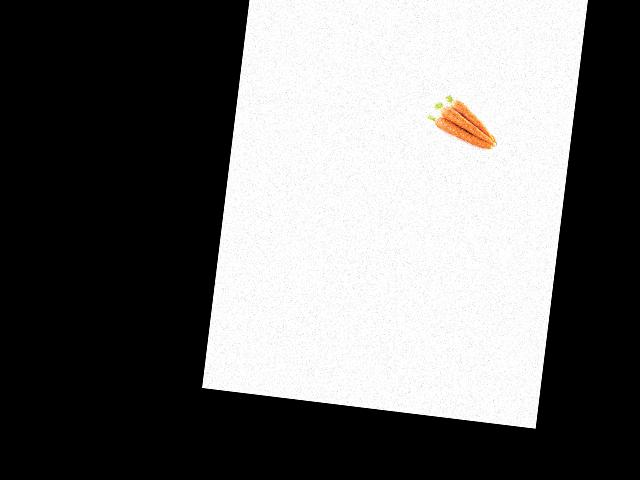carrot: (434, 114, 493, 148)
